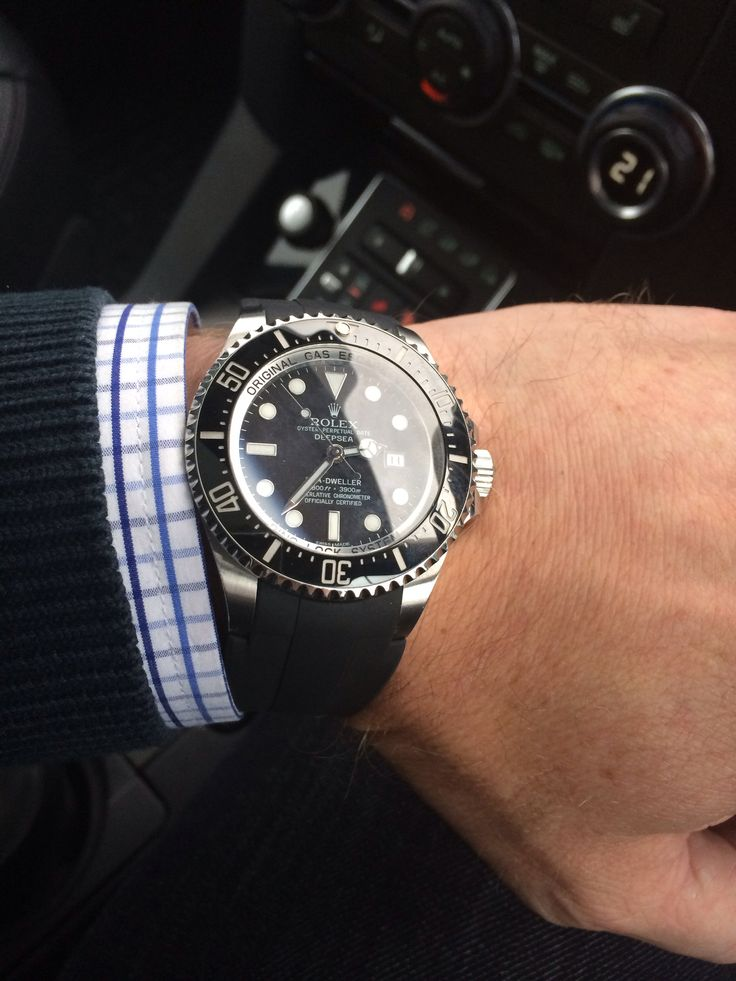clock: (240, 359, 451, 551)
